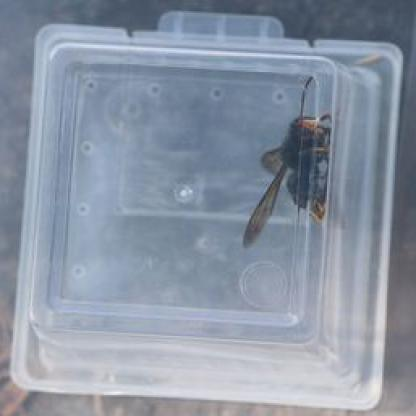Asian Hornet: (240, 81, 345, 249)
